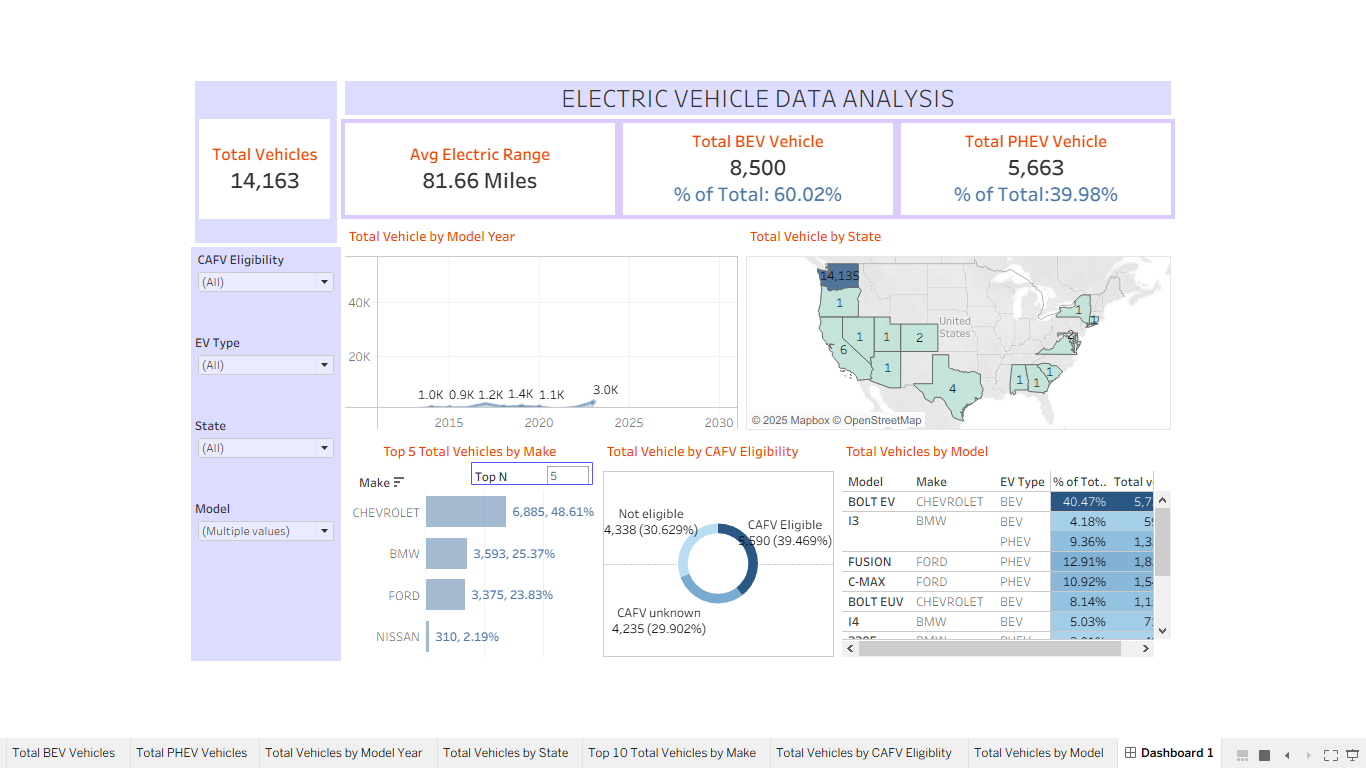

The dashboard page shown, as its layout file describes it:
{"tool":"tableau","page":{"name":"Dashboard 1","canvas":[1000,600],"ordinal":0},"visuals":[{"type":"blank","box":[8,8,150,170]},{"type":"title","box":[158,8,834,42]},{"type":"worksheet","title":"Total vehicles","mark":"Automatic","box":[16,50,131,100]},{"type":"worksheet","title":"Avg Electric Range","mark":"Automatic","box":[158,50,278,100]},{"type":"worksheet","title":"Total BEV Vehicles ","mark":"Automatic","box":[436,50,278,100]},{"type":"worksheet","title":"Total PHEV Vehicles","mark":"Automatic","box":[714,50,278,100]},{"type":"worksheet","title":"Total Vehicles by Model Year","mark":"Area","rows":["Calculation_0176762912473088","Calculation_0176762912473088"],"cols":["Model Year"],"box":[158,150,401,215]},{"type":"worksheet","title":"Total Vehicles by State","mark":"Multipolygon","box":[559,150,433,215]},{"type":"filter","title":"Total Vehicles by Model Year","param":"[federated.0oigpqj1t7se8y17l5w80157g0qz].[Action (Clean Alternative Fuel Vehicle","box":[8,178,150,83]},{"type":"filter","title":"Total Vehicles by Model Year","param":"[federated.0oigpqj1t7se8y17l5w80157g0qz].[none:Electric Vehicle Type:nk]","box":[8,261,150,83]},{"type":"filter","title":"Total Vehicles by Model Year","param":"[federated.0oigpqj1t7se8y17l5w80157g0qz].[none:State:nk]","box":[8,344,150,83]},{"type":"worksheet","title":"Top 10 Total Vehicles by Make","mark":"Bar","rows":["Make"],"cols":["Calculation_0176762912473088"],"box":[158,365,258,227]},{"type":"worksheet","title":"Total Vehicles by CAFV Eligiblity","mark":"Pie","rows":["Calculation_0176762946252810","Calculation_0176762946252810"],"box":[416,365,239,227]},{"type":"worksheet","title":"Total Vehicles by Model","mark":"Square","rows":["Model","Make","Electric Vehicle Type"],"box":[655,365,337,227]},{"type":"parameter","param":"[Parameters].[Parameter 1]","box":[288,393,122,23]},{"type":"filter","title":"Top 10 Total Vehicles by Make","param":"[federated.0oigpqj1t7se8y17l5w80157g0qz].[none:Model:nk]","box":[8,427,150,83]},{"type":"blank","box":[8,510,150,82]}]}

Visuals, with their boxes on the page's 1000x600 design canvas (x1, y1, x2, y2). These are canvas units, not pixel positions in the 1366x768 screenshot, which may show the page scaled, cropped or inside an application window:
blank: BBox(8, 8, 158, 178)
title: BBox(158, 8, 992, 50)
"Total vehicles" worksheet: BBox(16, 50, 147, 150)
"Avg Electric Range" worksheet: BBox(158, 50, 436, 150)
"Total BEV Vehicles " worksheet: BBox(436, 50, 714, 150)
"Total PHEV Vehicles" worksheet: BBox(714, 50, 992, 150)
"Total Vehicles by Model Year" worksheet (Area marks): BBox(158, 150, 559, 365)
"Total Vehicles by State" worksheet (Multipolygon marks): BBox(559, 150, 992, 365)
"Total Vehicles by Model Year" filter: BBox(8, 178, 158, 261)
"Total Vehicles by Model Year" filter: BBox(8, 261, 158, 344)
"Total Vehicles by Model Year" filter: BBox(8, 344, 158, 427)
"Top 10 Total Vehicles by Make" worksheet (Bar marks): BBox(158, 365, 416, 592)
"Total Vehicles by CAFV Eligiblity" worksheet (Pie marks): BBox(416, 365, 655, 592)
"Total Vehicles by Model" worksheet (Square marks): BBox(655, 365, 992, 592)
parameter: BBox(288, 393, 410, 416)
"Top 10 Total Vehicles by Make" filter: BBox(8, 427, 158, 510)
blank: BBox(8, 510, 158, 592)
